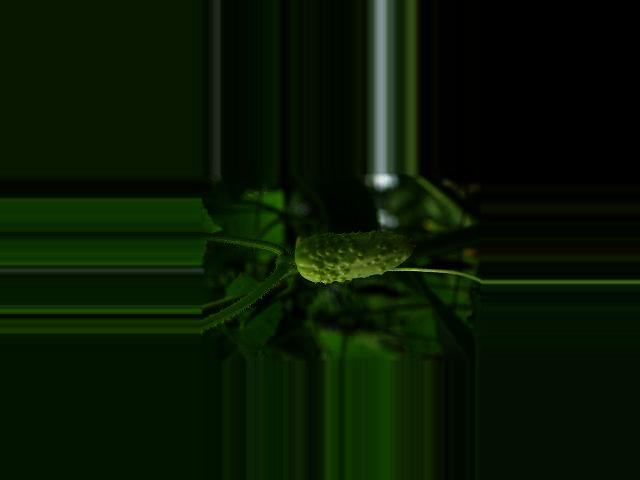cucumber: (294, 232, 417, 284)
